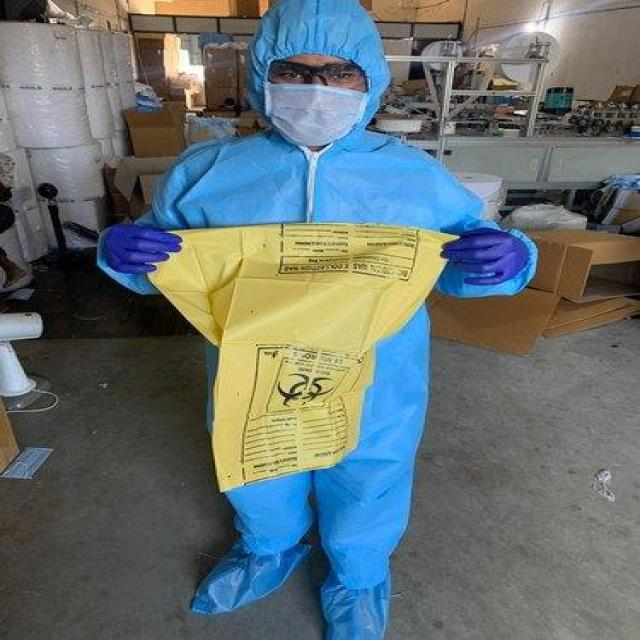Coverall: (58, 0, 440, 636)
Gloves: (444, 199, 536, 317), (89, 206, 160, 291)
Goggles: (251, 48, 377, 99)
Mask: (237, 73, 396, 141)
